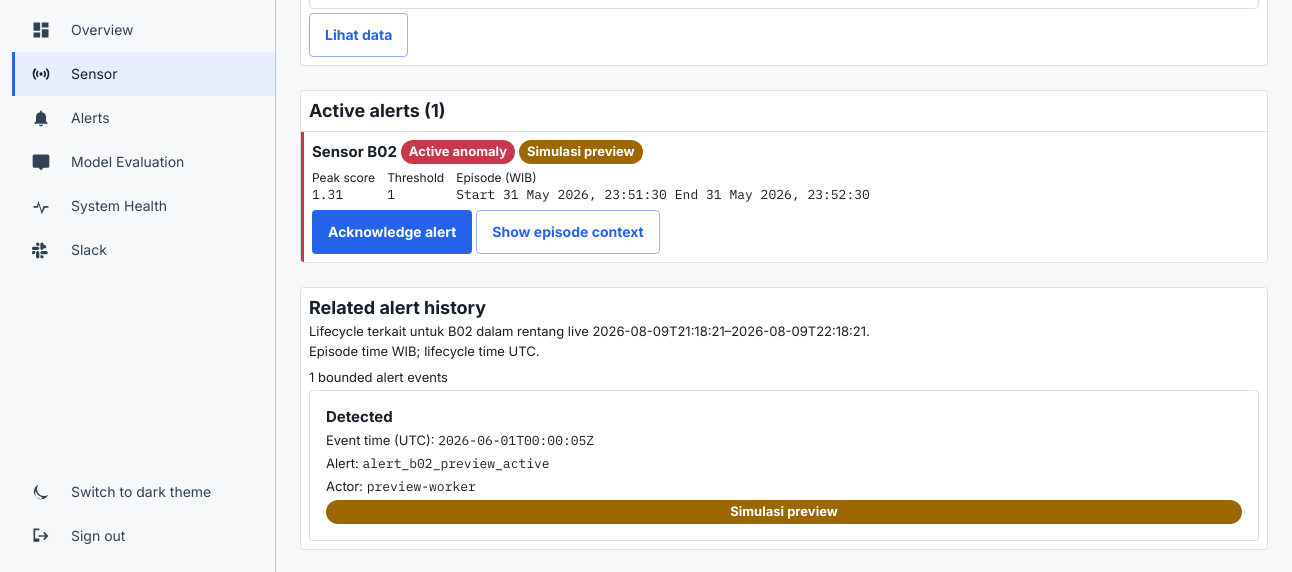
Test: SensorDetailPage › lazily loads episode context and supports manual acknowledge then resolve
This screenshot has width=1292, height=572.
(page scrolled)
Check: the heading "Active alerts (1)" is shown, box [309, 100, 445, 121]
Check: the text "Start 31 May 2026, 23:51:30" is shown, box [456, 186, 667, 204]
Click the button named "Show episode context for": click(568, 232) [476, 210, 660, 254]
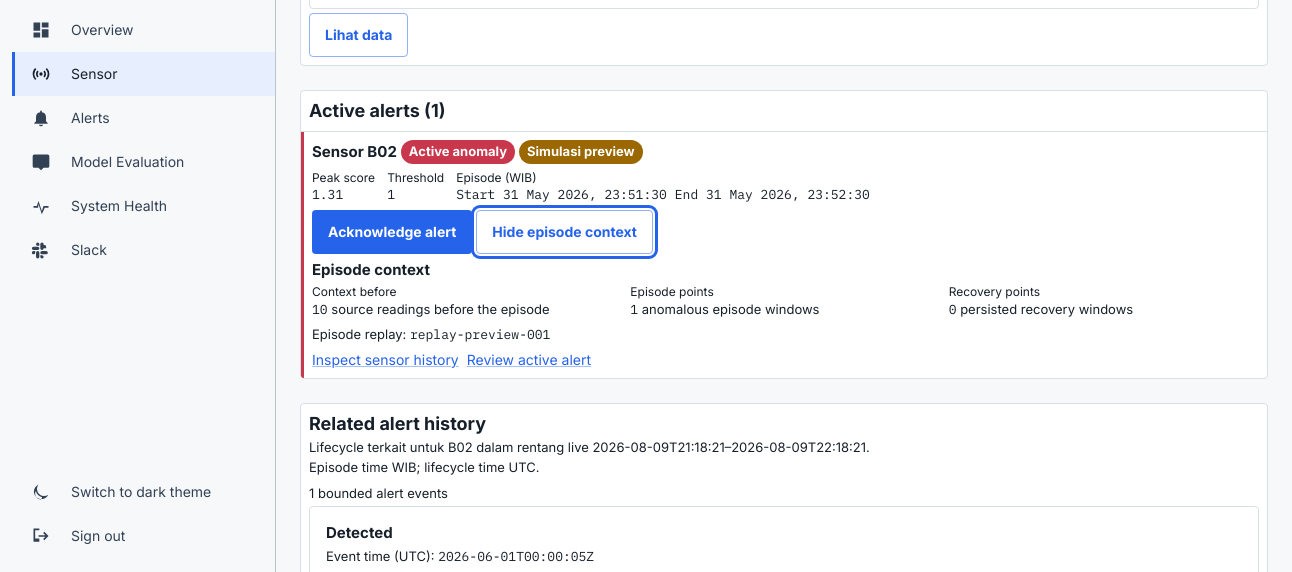
Check: the heading "Detected" is shown, box [326, 523, 393, 542]
Check: the heading "Episode context" is shown, box [312, 260, 430, 279]
Check: the element labelled "Episode context" shows "10 source readings before the episode", box [312, 260, 1259, 319]
Click the button "Acknowledge alert": click(392, 232) [312, 210, 472, 254]
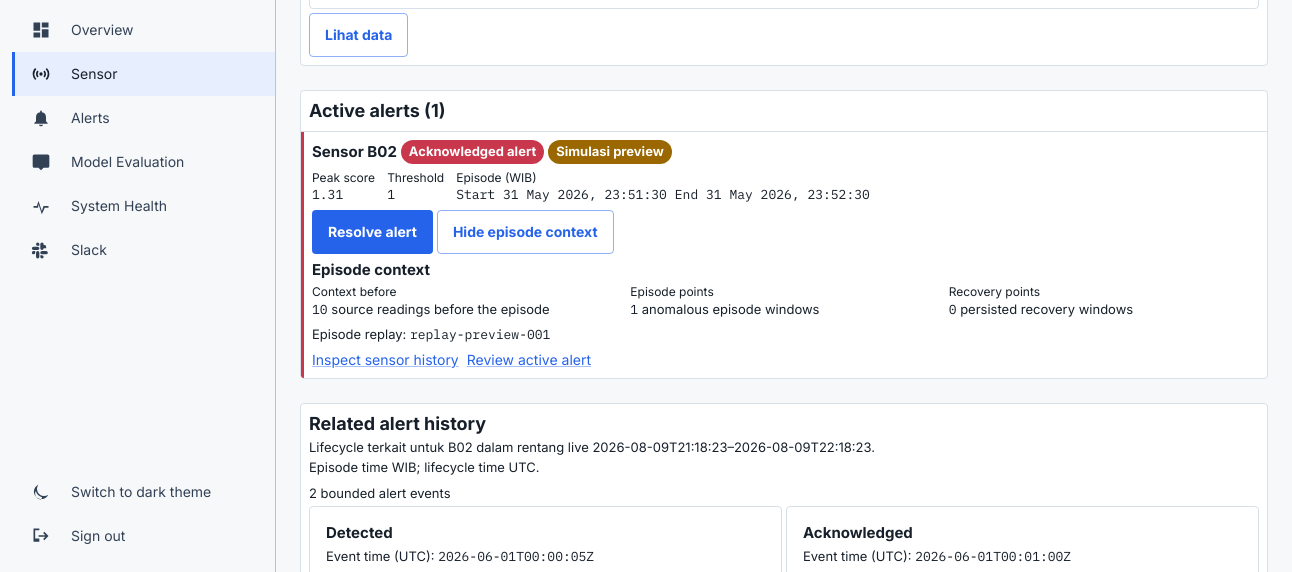
Click the button "Resolve alert": click(372, 232) [312, 210, 433, 254]
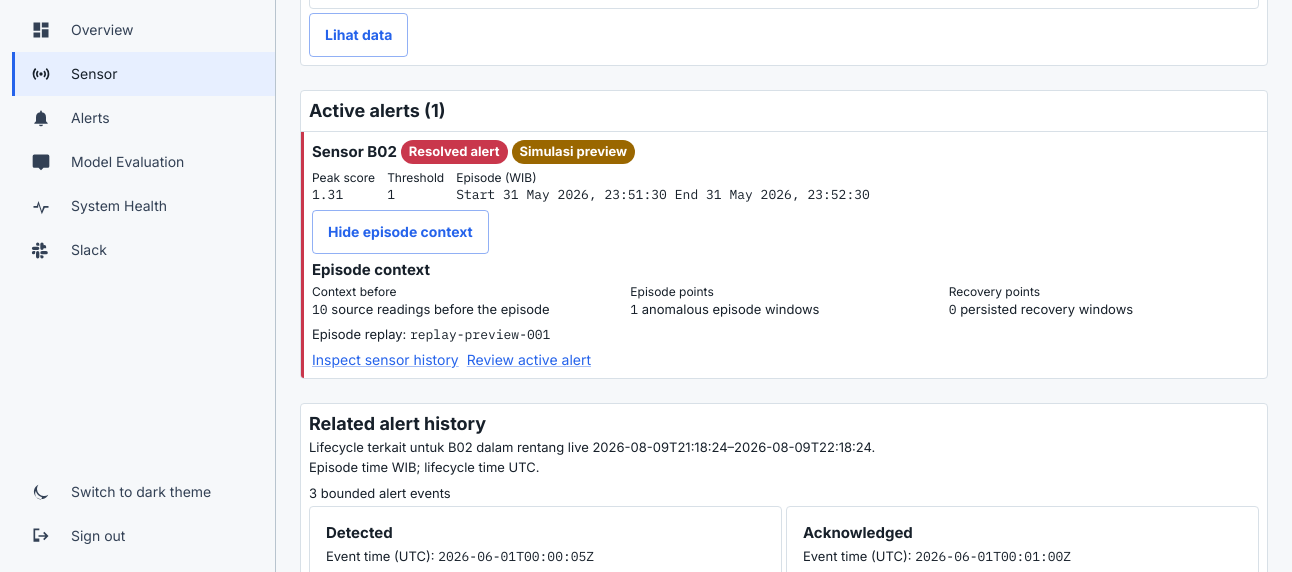
Check: the text "Resolved alert" is shown, box [401, 142, 508, 162]
